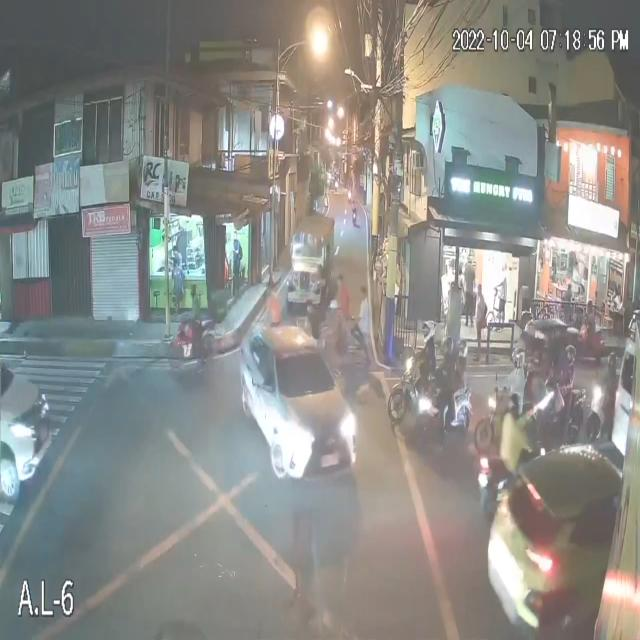Full-Faced: (508, 348, 526, 372), (421, 316, 436, 344), (453, 334, 469, 359), (439, 333, 451, 359), (566, 345, 576, 364)
